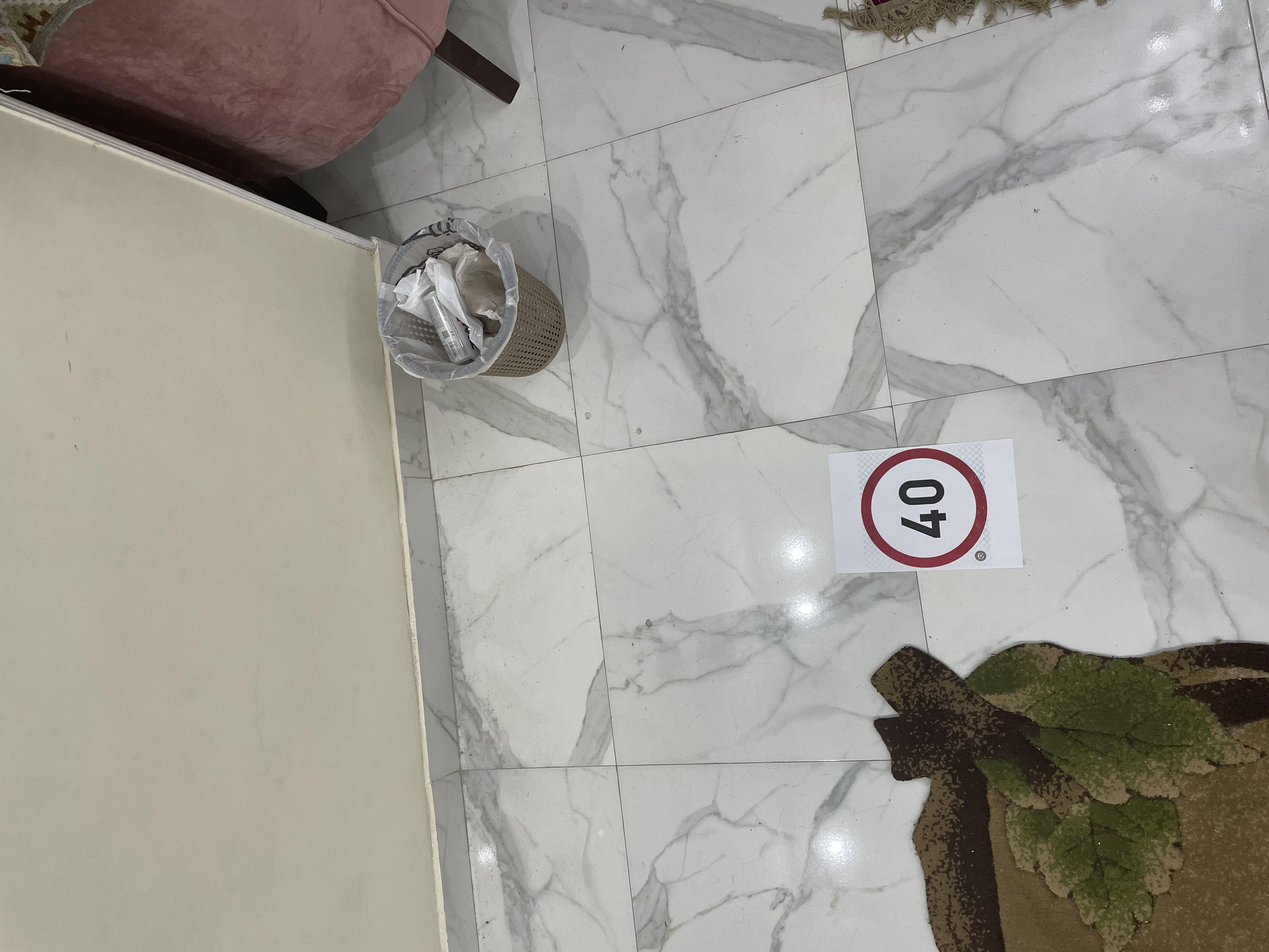40-Speed: (508, 644, 683, 744)
